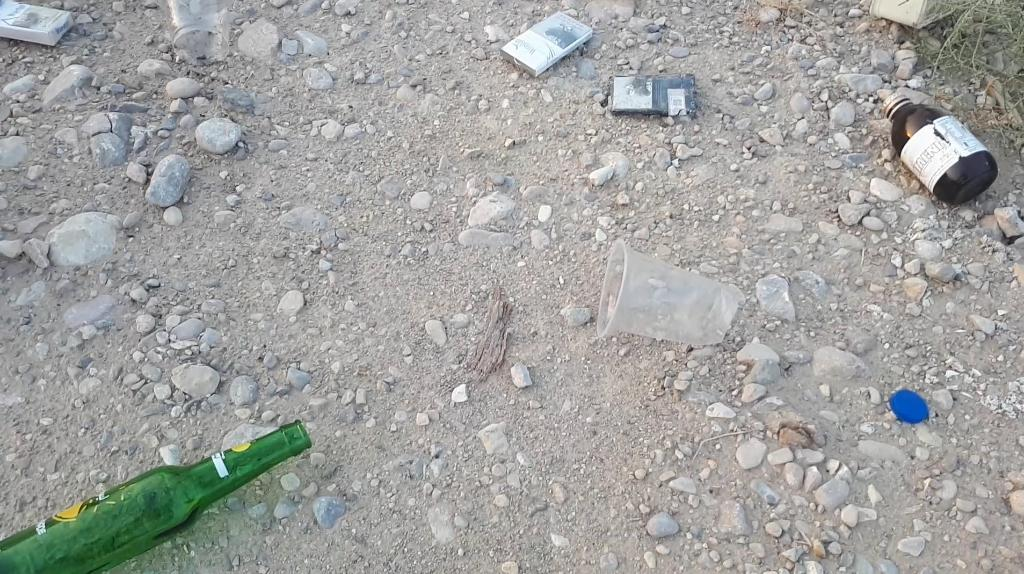garbage: (1, 418, 327, 574), (1, 419, 312, 573), (865, 92, 1011, 210), (881, 92, 998, 205)
